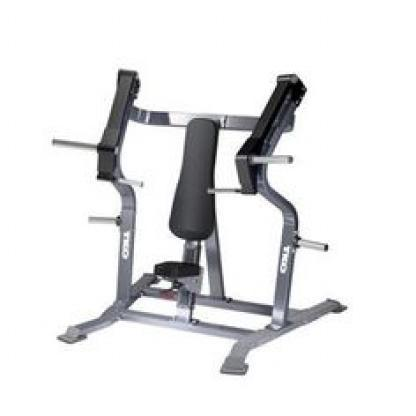shoulder press machine: (50, 68, 348, 375)
